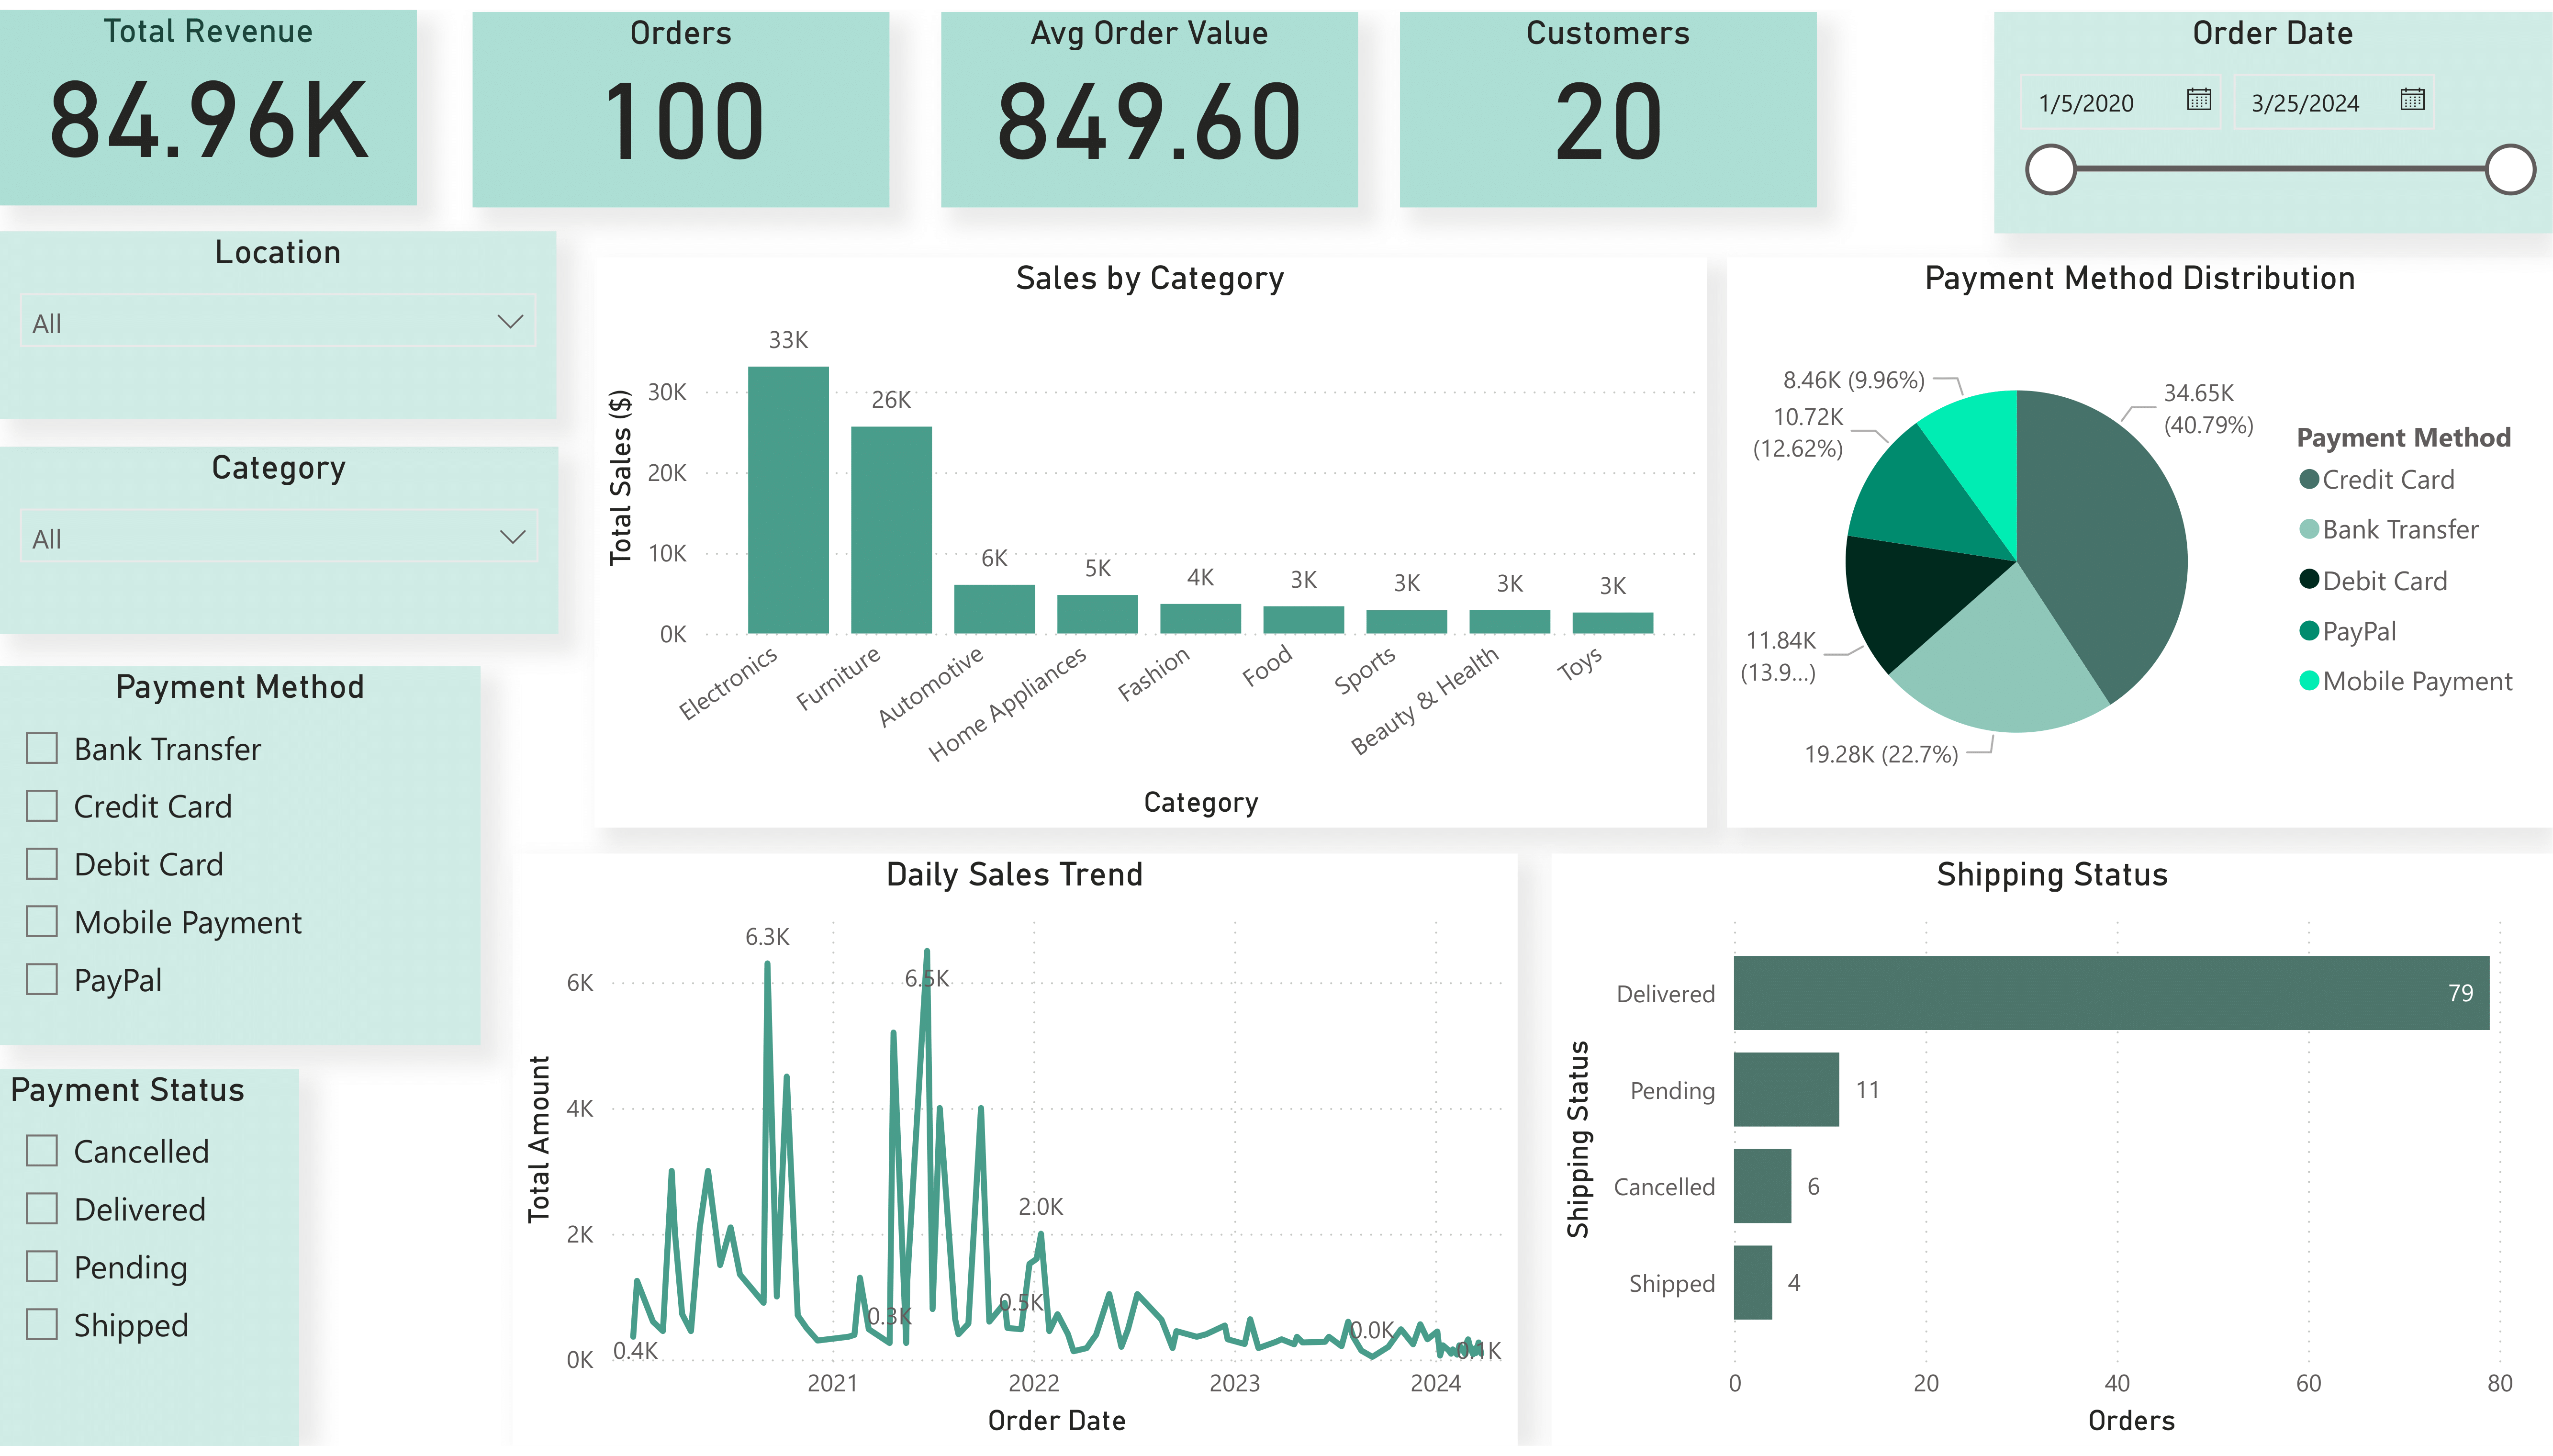

What the dashboard file says about the page in this screenshot:
{"tool":"powerbi","page":{"name":"Page 1","canvas":[1280,720],"ordinal":0},"visuals":[{"type":"card","title":"Total Revenue","fields":{"Values":["Sum(Individual_Order.TotalAmount)"]},"box":[0,0,209.1,97.8],"z":0},{"type":"card","title":"Orders","fields":{"Values":["CountNonNull(Individual_Order.OrderDate)"]},"box":[237.2,1.2,209.1,97.8],"z":1000},{"type":"card","title":"Avg Order Value","fields":{"Values":["Avg(Individual_Order.TotalAmount)"]},"box":[472,1.2,209.1,97.8],"z":2000},{"type":"card","title":"Customers","fields":{"Values":["Count(Individual_Order.CustomerID)"]},"box":[701.9,1.2,209.1,97.8],"z":3000},{"type":"clusteredColumnChart","title":"Sales by Category","fields":{"Category":["Product.Category"],"Y":["Sum(Individual_Order.TotalAmount)"]},"box":[298.4,123.5,557.6,286.1],"z":4000},{"type":"lineChart","title":"Daily Sales Trend","fields":{"Y":["Sum(Individual_Order.TotalAmount)"],"Category":["Individual_Order.OrderDate"]},"box":[256.8,423.1,503.8,297.1],"z":5000},{"type":"pieChart","title":"Payment Method Distribution","fields":{"Category":["Payment.PaymentMethod"],"Y":["Sum(Individual_Order.TotalAmount)"]},"box":[865.8,123.5,414.5,286.1],"z":6000},{"type":"barChart","title":"Shipping Status","fields":{"Category":["Shipping.ShippingStatus"],"Y":["CountNonNull(Shipping.OrderID)"]},"box":[777.7,423.1,502.6,297.1],"z":7000},{"type":"slicer","title":"Order Date","fields":{"Values":["Individual_Order.OrderDate"]},"box":[1000.3,1.2,280,111.3],"z":8000},{"type":"slicer","title":"Category","fields":{"Values":["Product.Category"]},"box":[0,218.9,280,94.2],"z":9000},{"type":"slicer","title":"Payment Method","fields":{"Values":["Payment.PaymentMethod"]},"box":[0,328.9,240.9,189.5],"z":10000},{"type":"slicer","title":"Location","fields":{"Values":["Store.Location"]},"box":[0,111.3,278.8,94.2],"z":11000},{"type":"slicer","title":"Payment Status","fields":{"Values":["Shipping.ShippingStatus"]},"box":[0,530.7,150.4,189.5],"z":12000}]}

Visuals, with their boxes in screenshot pixels (x1, y1, x2, y2), scaled from the page's 1280x720 canvas onto the 2553x1456 screenshot:
"Total Revenue" card: {"left": 0, "top": 0, "right": 417, "bottom": 198}
"Orders" card: {"left": 473, "top": 2, "right": 890, "bottom": 200}
"Avg Order Value" card: {"left": 941, "top": 2, "right": 1358, "bottom": 200}
"Customers" card: {"left": 1400, "top": 2, "right": 1817, "bottom": 200}
"Sales by Category" clusteredColumnChart: {"left": 595, "top": 250, "right": 1707, "bottom": 829}
"Daily Sales Trend" lineChart: {"left": 512, "top": 856, "right": 1517, "bottom": 1456}
"Payment Method Distribution" pieChart: {"left": 1727, "top": 250, "right": 2553, "bottom": 829}
"Shipping Status" barChart: {"left": 1551, "top": 856, "right": 2553, "bottom": 1456}
"Order Date" slicer: {"left": 1995, "top": 2, "right": 2553, "bottom": 227}
"Category" slicer: {"left": 0, "top": 443, "right": 559, "bottom": 633}
"Payment Method" slicer: {"left": 0, "top": 665, "right": 481, "bottom": 1048}
"Location" slicer: {"left": 0, "top": 225, "right": 556, "bottom": 415}
"Payment Status" slicer: {"left": 0, "top": 1073, "right": 300, "bottom": 1456}
